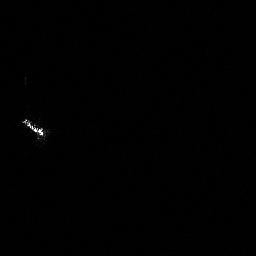ship: (18, 115, 51, 143)
